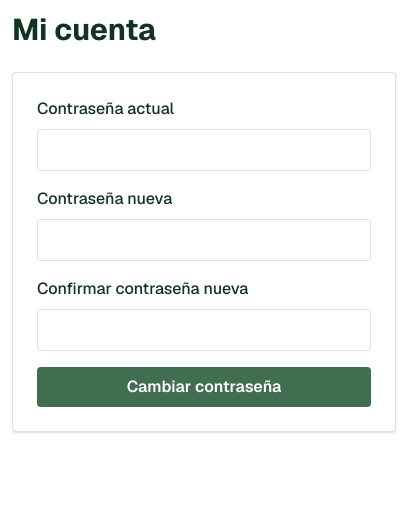
Test: AccountPage › no envía la request si la confirmación no coincide con la contraseña nueva
In the password field labelled "Contraseña actual": x=204, y=150 [37, 129, 371, 171], type "current-pass"
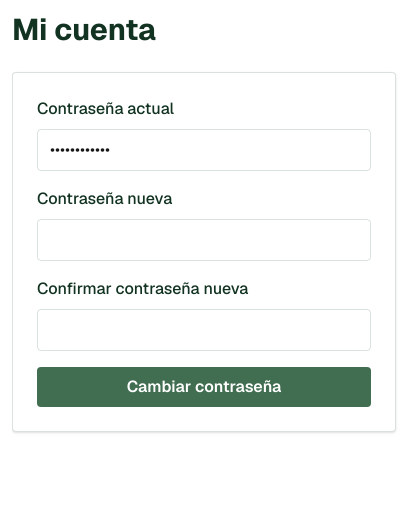
In the password field labelled "Contraseña nueva": x=204, y=240 [37, 219, 371, 261], type "newpassword123"
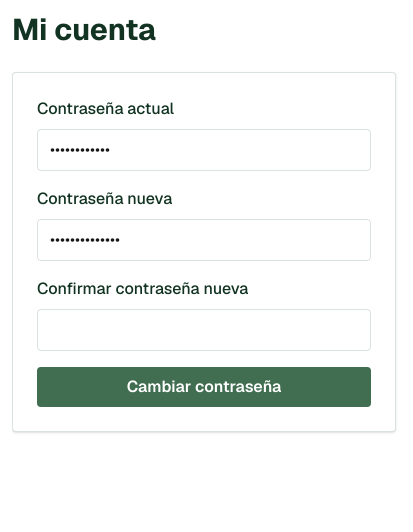
In the password field labelled "Confirmar contraseña nueva": x=204, y=330 [37, 309, 371, 351], type "otra-cosa"
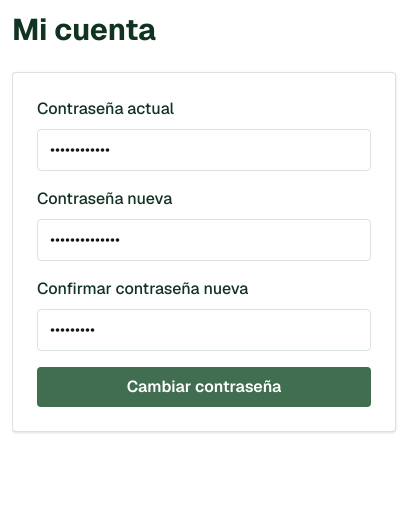
Click the button "Cambiar contraseña": x=204, y=387 [37, 367, 371, 407]
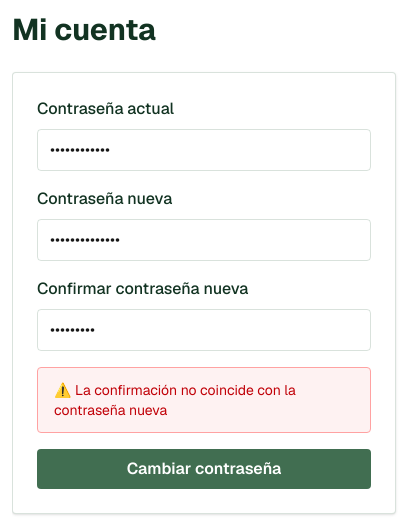
Now the message shows "no coincide", box [54, 381, 296, 419]
